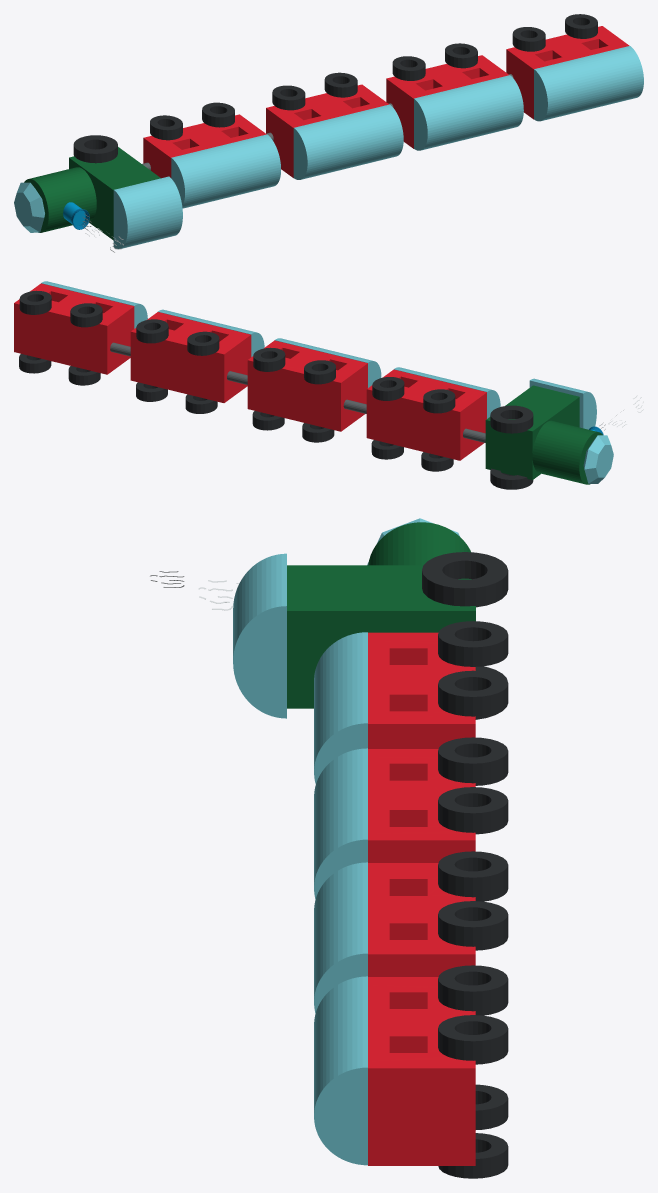
The model's file is tinker.obj.
3 renders of one model, top to bottom at view 1: azimuth 30°, elevation 25°; view 2: azimuth 150°, elevation 25°; view 3: azimuth 270°, elevation 25°, orthographic. The views are drawn at different scales.
Visible parts, largest first — view 1: group_0_7720667, group_0_15277357, group_0_2829873, group_0_1206582, group_0_40919; view 2: group_0_15277357, group_0_2829873, group_0_1206582, group_0_7720667, group_0_6383466; view 3: group_0_15277357, group_0_7720667, group_0_2829873, group_0_1206582.
Boxes of the visible parts, x1,y1,x2,y2 form: group_0_7720667: [14, 46, 643, 249]; group_0_15277357: [143, 26, 629, 178]; group_0_2829873: [73, 14, 597, 163]; group_0_1206582: [24, 147, 160, 240]; group_0_40919: [63, 202, 85, 225]; group_0_15277357: [14, 283, 486, 460]; group_0_2829873: [19, 290, 533, 489]; group_0_1206582: [485, 385, 602, 484]; group_0_7720667: [41, 281, 613, 483]; group_0_6383466: [110, 342, 485, 442]; group_0_15277357: [368, 632, 475, 1165]; group_0_7720667: [233, 518, 459, 1165]; group_0_2829873: [422, 552, 508, 1178]; group_0_1206582: [287, 522, 475, 708].
Bounding box in the file's own units: 247 × 28 × 66.44.
